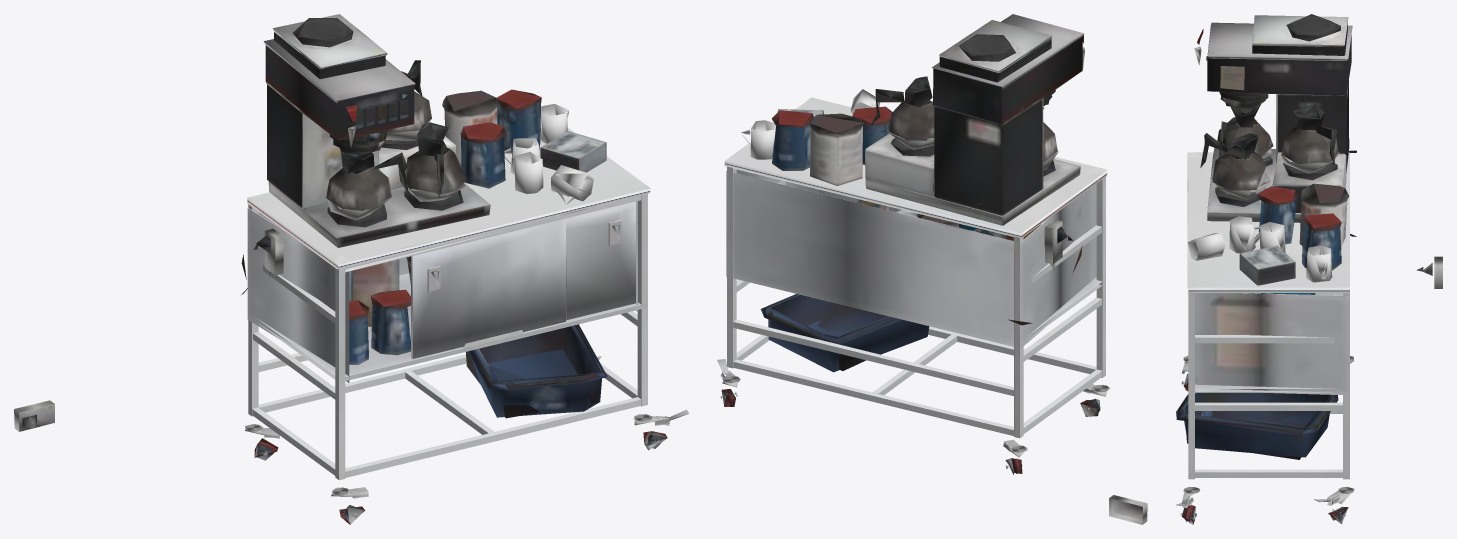
The model's file is cc0_coffee_cart.glb.
3 views of the same model, side by side, from view 1: azimuth 30°, elevation 25°; view 2: azimuth 150°, elevation 25°; view 3: azimuth 270°, elevation 25° (orthographic). The views are drawn at different scales.
Visible parts, largest first — view 1: CoffeeCart_01_cart, CoffeeCart_01_props, CoffeeCart_01_mugs; view 2: CoffeeCart_01_cart, CoffeeCart_01_props, CoffeeCart_01_mugs; view 3: CoffeeCart_01_props, CoffeeCart_01_cart, CoffeeCart_01_mugs.
Part boxes in pixels (left/top/right/bottom): CoffeeCart_01_cart: left=245, top=128, right=688, bottom=524; CoffeeCart_01_props: left=14, top=14, right=607, bottom=431; CoffeeCart_01_mugs: left=504, top=104, right=593, bottom=204; CoffeeCart_01_cart: left=717, top=97, right=1109, bottom=474; CoffeeCart_01_props: left=760, top=14, right=1147, bottom=524; CoffeeCart_01_mugs: left=741, top=89, right=879, bottom=159; CoffeeCart_01_props: left=1176, top=14, right=1442, bottom=459; CoffeeCart_01_cart: left=1176, top=152, right=1354, bottom=524; CoffeeCart_01_mugs: left=1187, top=216, right=1332, bottom=282.
Bounding box in the file's own units: 2.17 × 1.7 × 1.07.
Materials: 3 (2 with a texture image).
